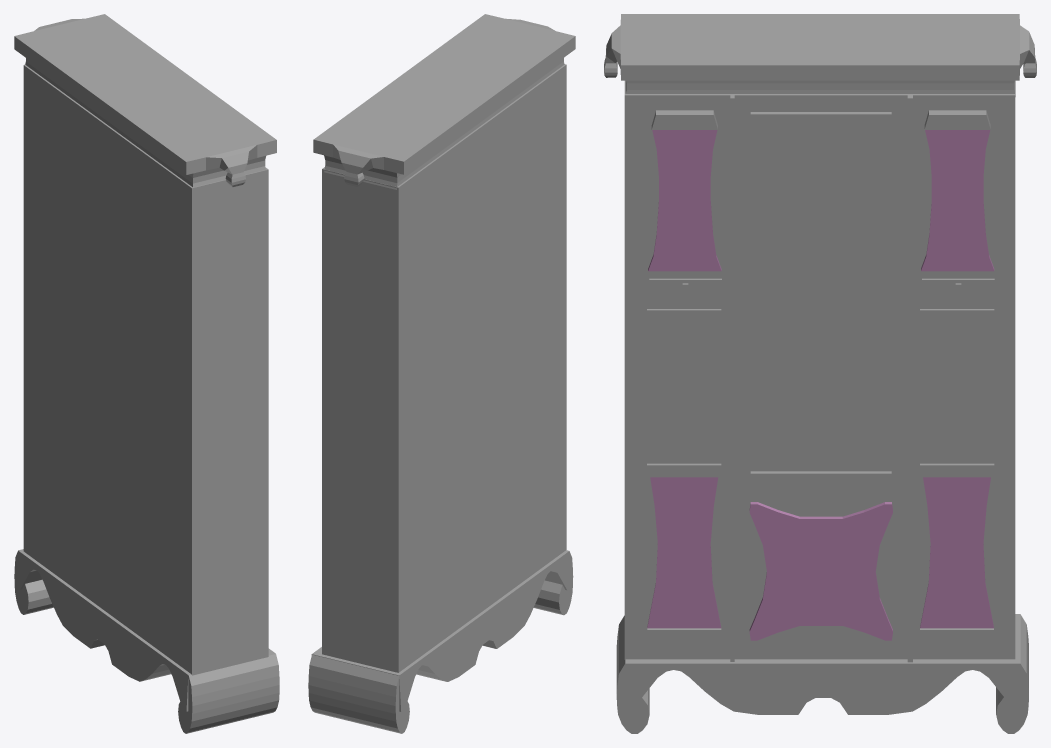
The model's file is FBX_Vitrina.fbx.
3 views of the same model, side by side, from view 1: azimuth 30°, elevation 25°; view 2: azimuth 150°, elevation 25°; view 3: azimuth 270°, elevation 25° (orthographic). The views are drawn at different scales.
Parts seen in each view (by area): view 1: Vitrinita; view 2: Vitrinita; view 3: Vitrinita.
Boxes of the visible parts, box(x1,y1,x2,y2) form: Vitrinita: box(14, 14, 279, 733); Vitrinita: box(308, 14, 575, 733); Vitrinita: box(604, 14, 1036, 733).
Bounding box in the file's own units: 32.19 × 189 × 111.
